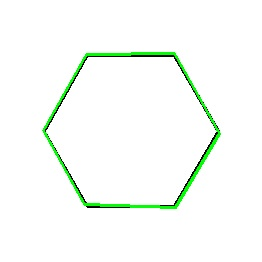line_segment: (43, 53, 220, 209)
